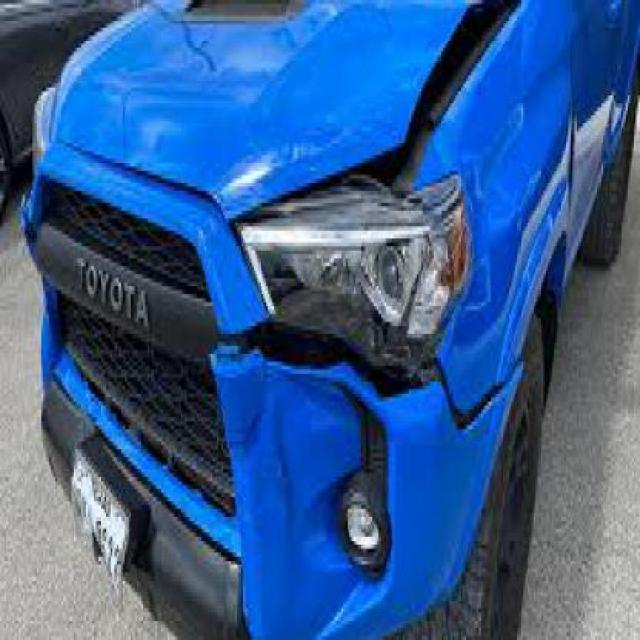damaged-front-bumper: (21, 223, 512, 639)
